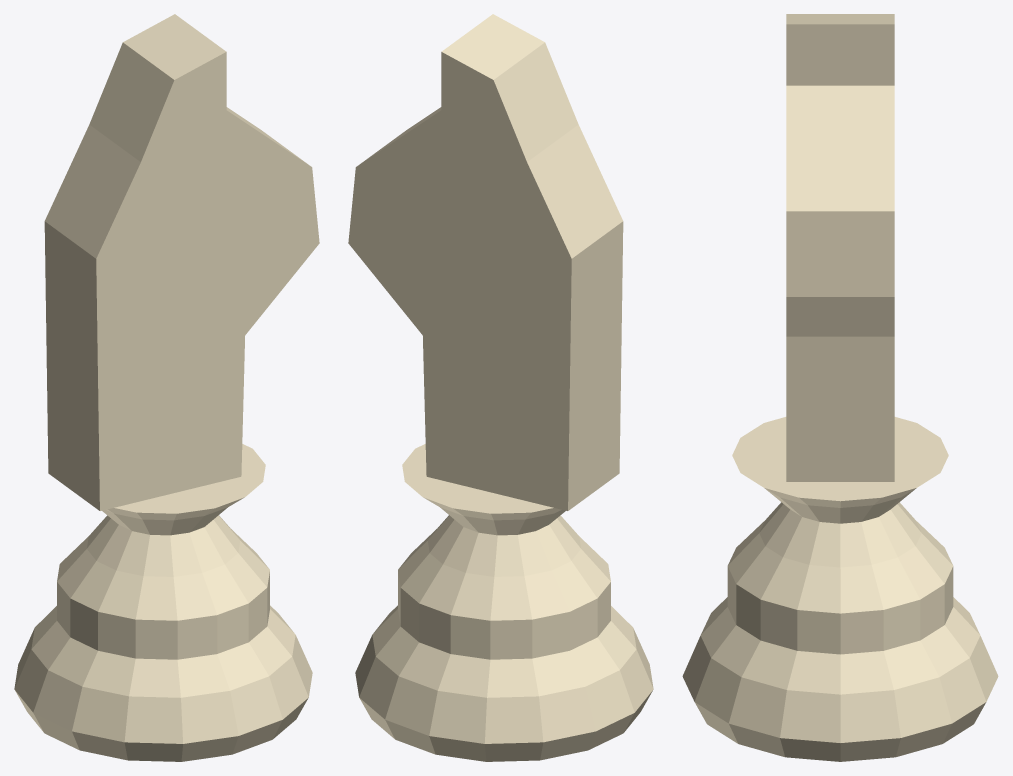
The model's file is SM_IntellectualGrandpaHouse_Chess_White_Knight.fbx.
3 views of the same model, side by side, from view 1: azimuth 30°, elevation 25°; view 2: azimuth 150°, elevation 25°; view 3: azimuth 270°, elevation 25° (orthographic). The views are drawn at different scales.
Visible parts, largest first — view 1: SM_IntellectualGrandpaHouse_Chess_White_Knight; view 2: SM_IntellectualGrandpaHouse_Chess_White_Knight; view 3: SM_IntellectualGrandpaHouse_Chess_White_Knight.
Part boxes in pixels (box(x1,y1,x2,y2)): SM_IntellectualGrandpaHouse_Chess_White_Knight: box(14, 14, 319, 761); SM_IntellectualGrandpaHouse_Chess_White_Knight: box(348, 14, 653, 761); SM_IntellectualGrandpaHouse_Chess_White_Knight: box(682, 14, 998, 761).
Bounding box in the file's own units: 7 × 7 × 17.
